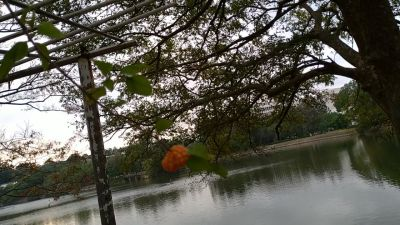eggs: (159, 141, 191, 174)
